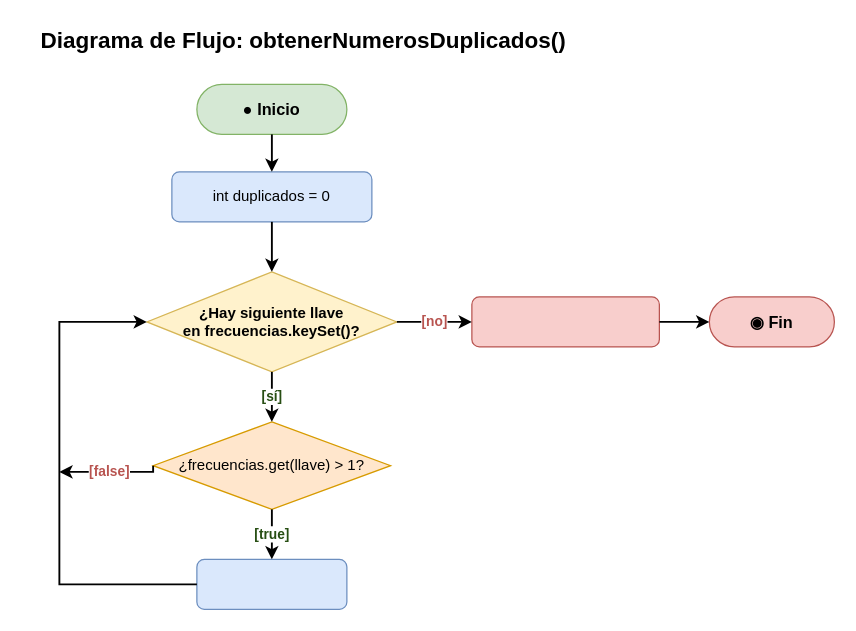
Image size: 856x631. Some labels were removed from this diagram. The shapes that lost their labels are listed below. From the top down, each one's centre as x and y in pixels, then its label:
At point 565,321: "retornar duplicados".
At point 271,583: "duplicados++".
